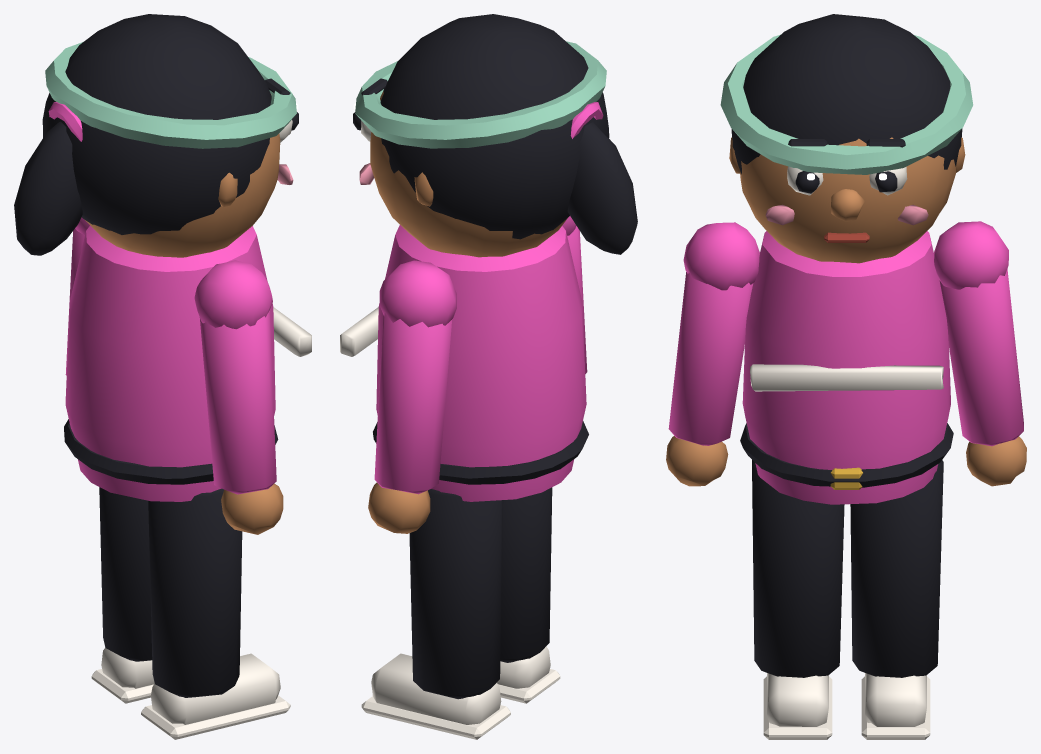
The model's file is ped_jogger.glb.
The picture shows the model from 3 angles, left to right: view 1: azimuth 30°, elevation 25°; view 2: azimuth 150°, elevation 25°; view 3: azimuth 270°, elevation 25°; orthographic projection.
Visible parts, largest first — view 1: ped_jogger; view 2: ped_jogger; view 3: ped_jogger.
Part boxes in pixels (x1,y1,x2,y2): ped_jogger: (14,14,311,739); ped_jogger: (340,14,637,739); ped_jogger: (666,14,1026,739).
Size of the model in its own units: 0.5647 by 1.39 by 0.6737.
1 material, 1 textured.
